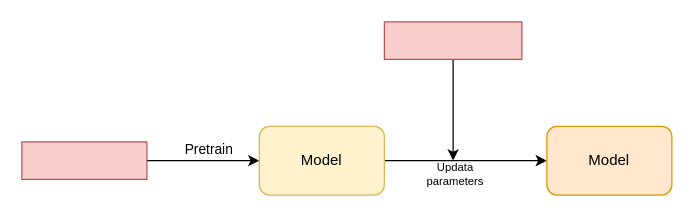
This 694x218 diagram has some shape labels left out. The shapes that lost their labels are listed below. From the top down, each one's centre as x and y in pixels, then its label:
At point (452, 40): "High quality data".
At point (84, 160): "Low quality data".
